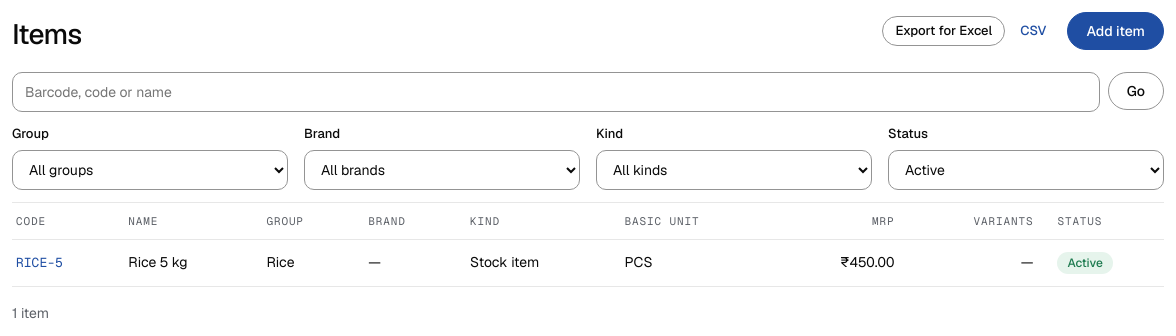
Test: ItemsList › filters the list when the text is not a known code
Expected: the text "Rice 5 kg" is shown, [116,240,254,286]
In the search field: (556, 92) [12,72,1100,112], type "basmati"
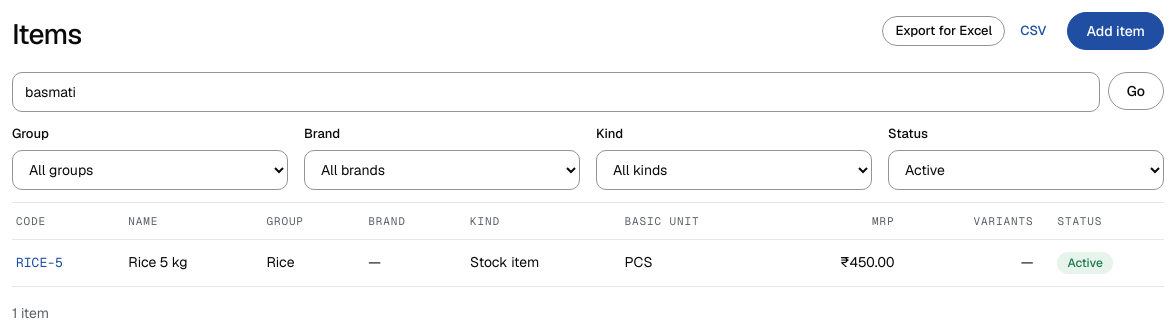
Submit the form, box [12,72,1164,112]
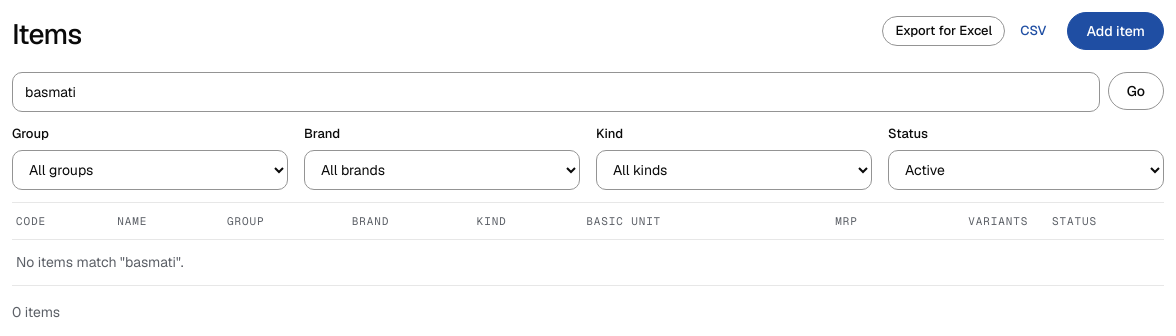
Result: the text "No items match \"basmati\"." is shown at [12,240,1164,285]
